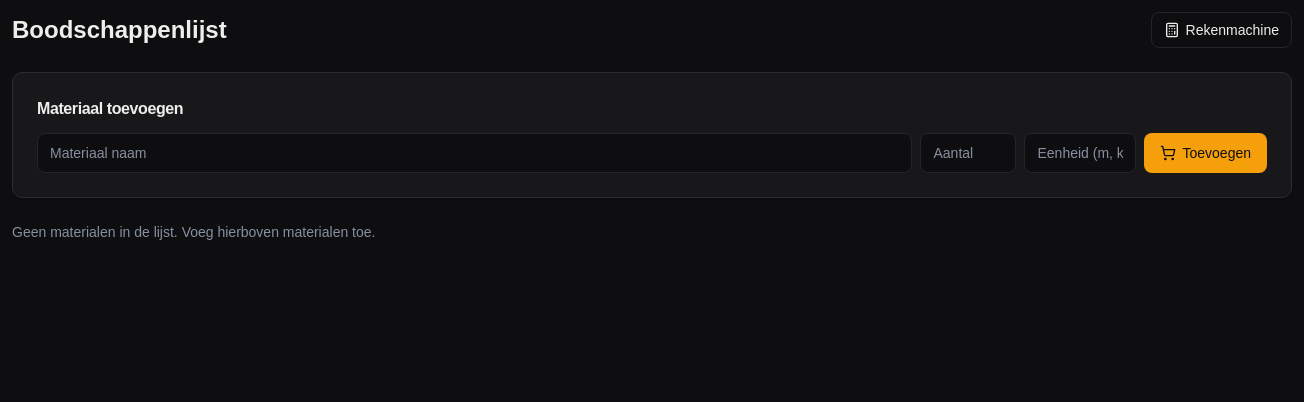
Test: ShoppingListPage › persists items in localStorage after add
Type "Hout" into the field with placeholder "Materiaal naam" at (475, 153), box [37, 133, 912, 173]
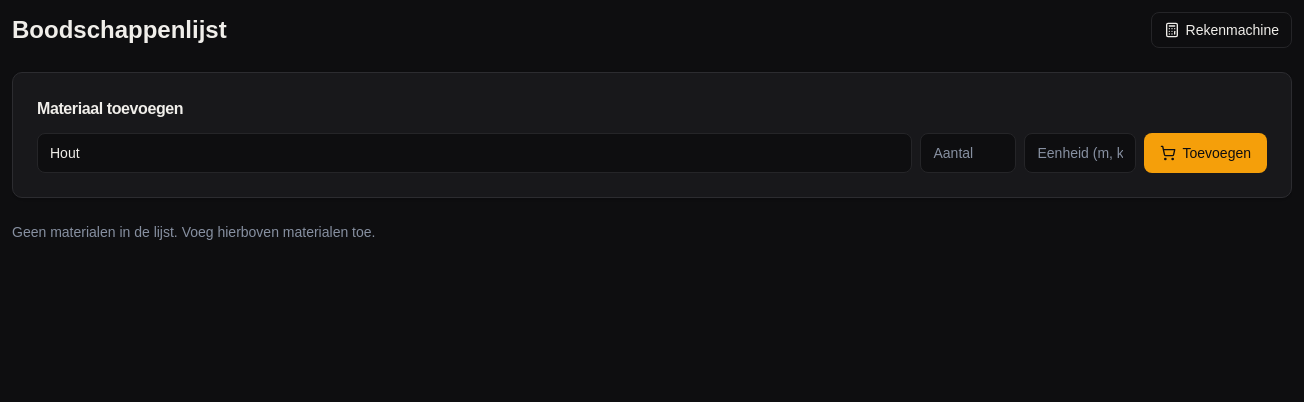
Type "20" into the field with placeholder "Aantal" at (968, 153), box [920, 133, 1016, 173]
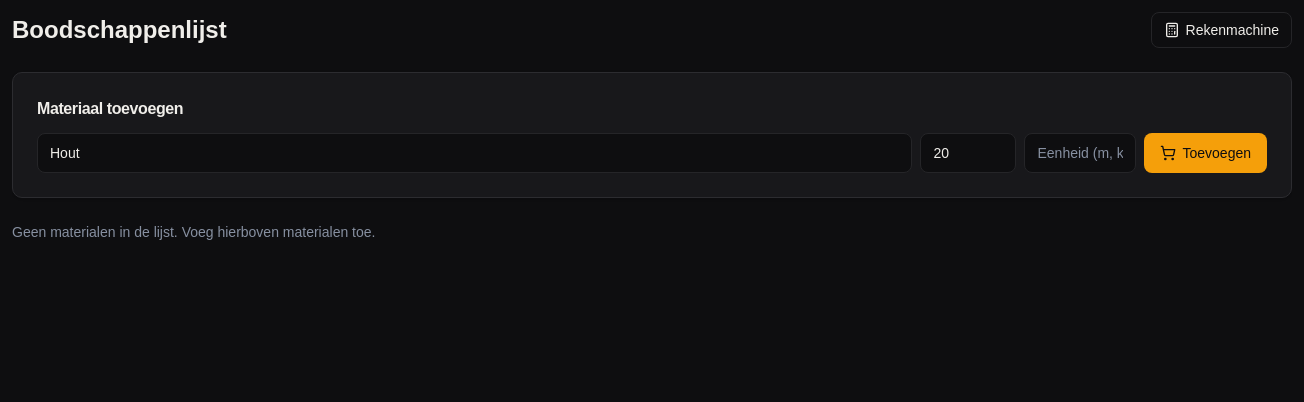
Type "m" into the field with placeholder "Eenheid (m, kg…)" at (1080, 153), box [1024, 133, 1136, 173]
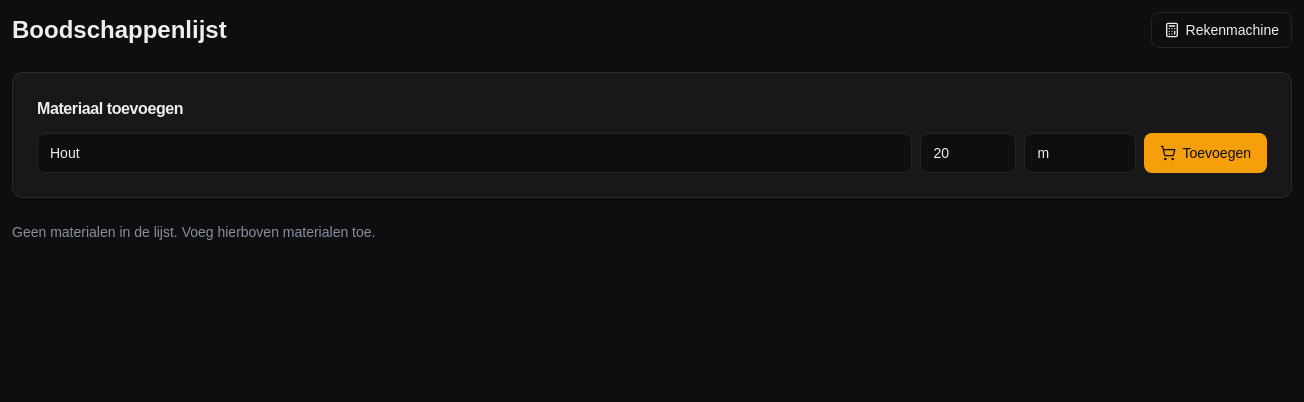
Click the button "Toevoegen" at (1206, 153), box [1144, 133, 1267, 173]
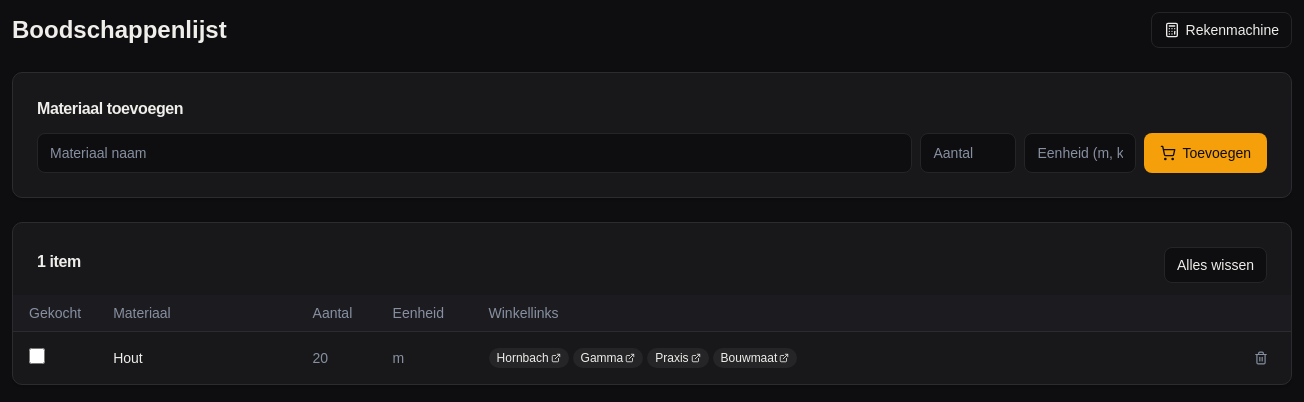
Now the text "Hout" is shown, box [113, 350, 143, 366]
